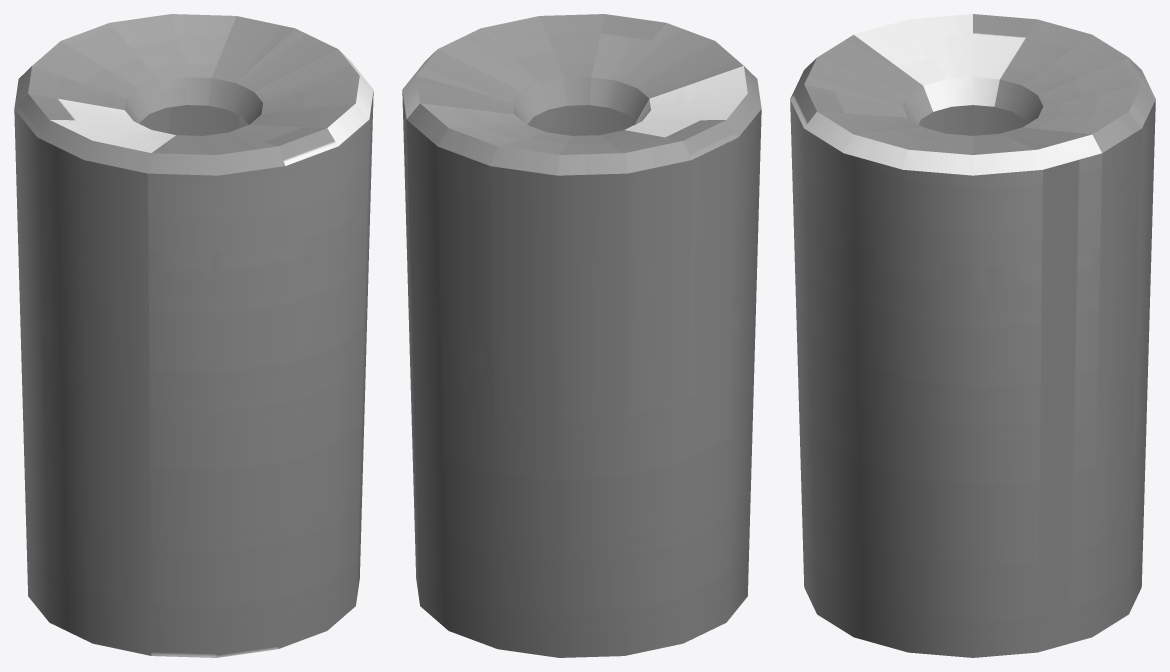
Rendered from EQUIPEMENT-poubelle.fbx.
3 renders of one model, left to right at view 1: azimuth 30°, elevation 25°; view 2: azimuth 150°, elevation 25°; view 3: azimuth 270°, elevation 25°, orthographic.
Parts seen in each view (by area): view 1: Group3, Group2; view 2: Group3, Group2; view 3: Group3, Group2.
Boxes of the visible parts, left/top/right/bottom form: Group3: left=14, top=91, right=373, bottom=657; Group2: left=14, top=14, right=373, bottom=175; Group3: left=402, top=91, right=761, bottom=657; Group2: left=402, top=14, right=761, bottom=175; Group3: left=790, top=99, right=1155, bottom=657; Group2: left=790, top=14, right=1155, bottom=175.
Size of the model in its own units: 18.51 by 28.39 by 18.71.
